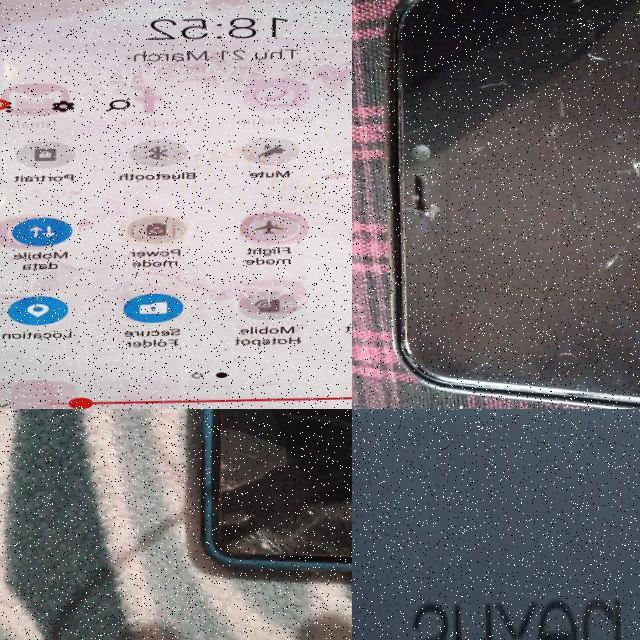screen crack: (479, 0, 640, 314), (185, 439, 299, 588)
